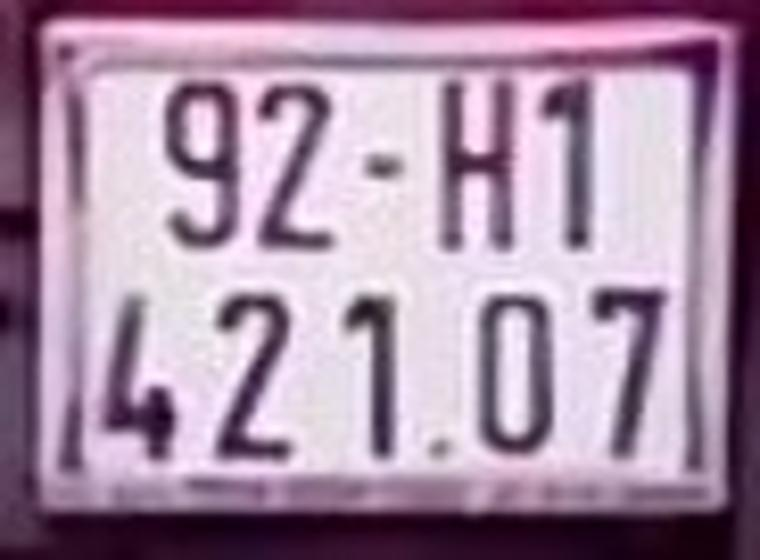-: (363, 157, 399, 179)
.: (429, 439, 449, 460)
0: (475, 295, 553, 456)
1: (540, 77, 594, 255), (345, 293, 394, 456)
2: (214, 293, 288, 460), (262, 84, 330, 251)
4: (106, 295, 172, 457)
7: (589, 287, 664, 461)
9: (155, 82, 240, 243)
H: (435, 75, 516, 255)
